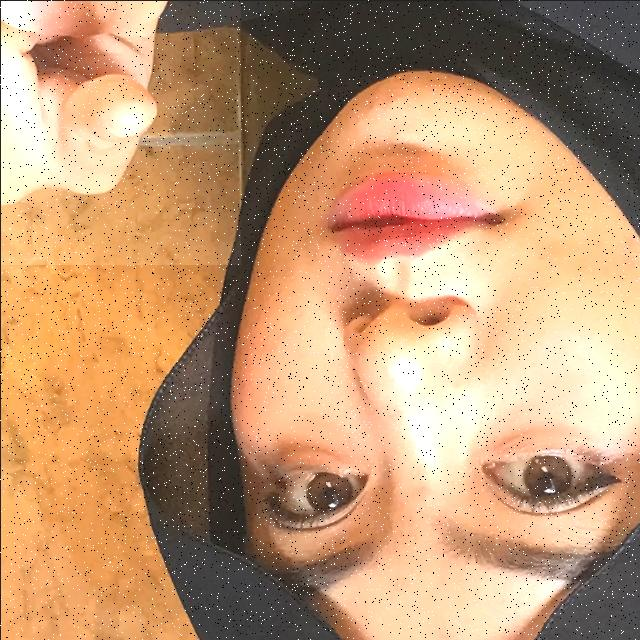kamu: (0, 0, 240, 264)
